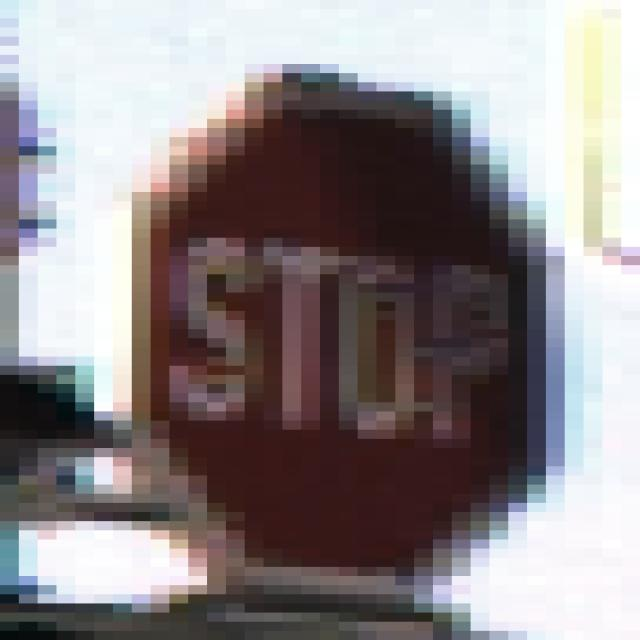STOP: (114, 65, 547, 586)
